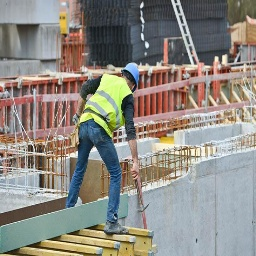helmet: (121, 62, 140, 84)
person: (73, 61, 142, 236)
vest: (77, 77, 133, 145)
